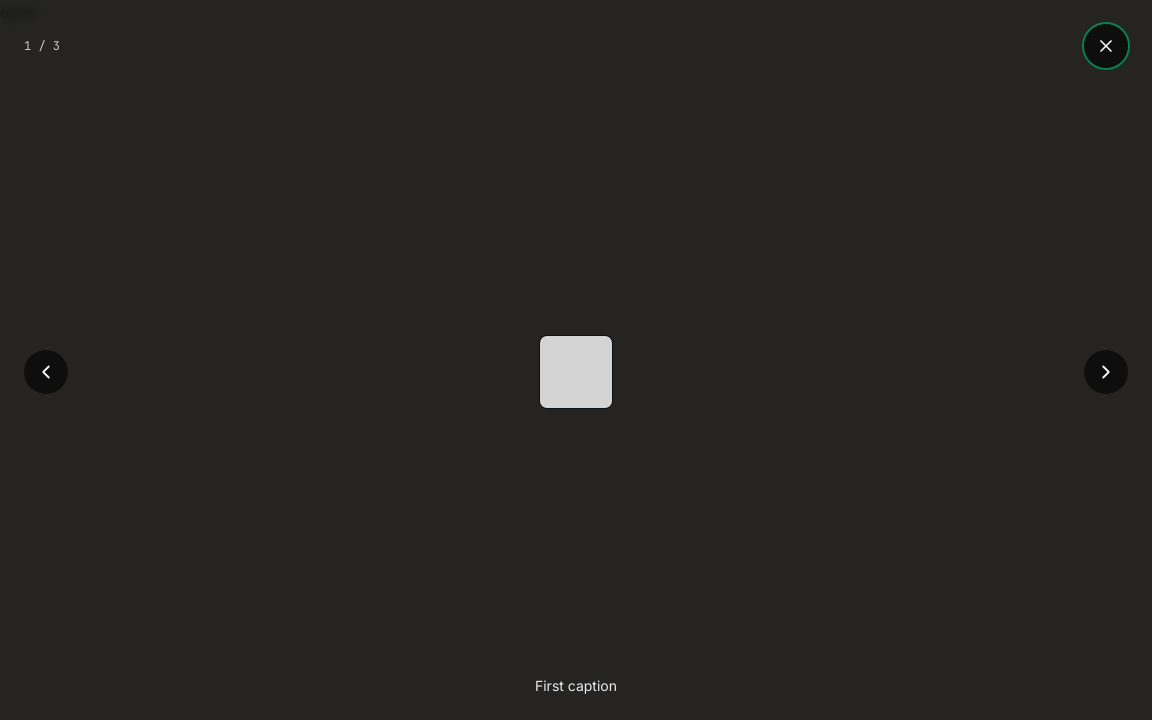
Test: ImageLightbox › moves with the buttons and arrow keys, wrapping around
The width and height of the screenshot is (1152, 720).
Click the button named "Next".
click(1106, 372)  # box [1084,350,1128,394]
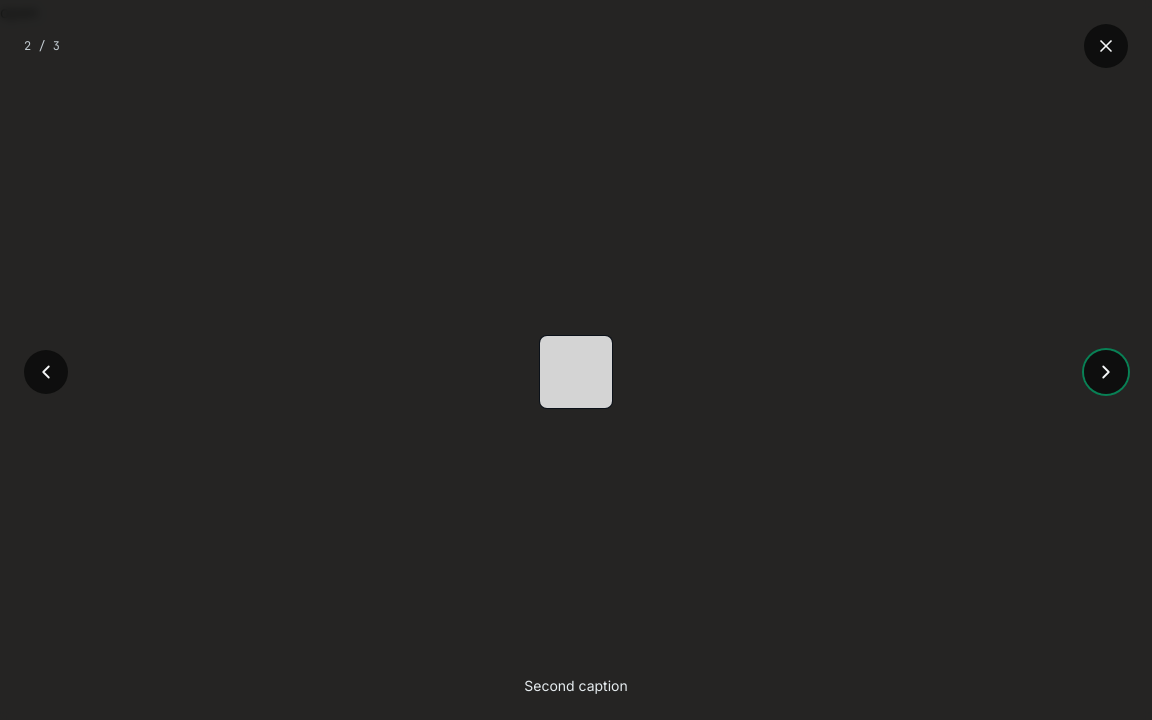
Now the text "2 / 3" is shown, box [24,38,60,54]
Press Arrowright Arrowright
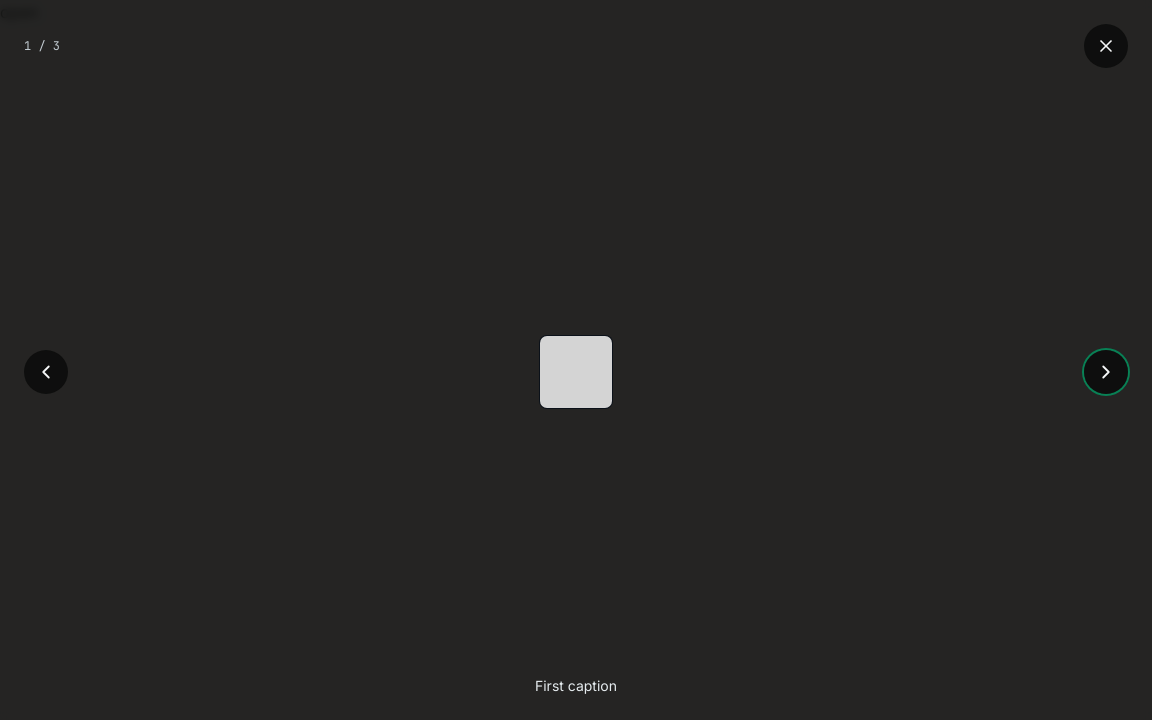
Now the text "1 / 3" is shown, box [24,38,60,54]
Press Arrowleft
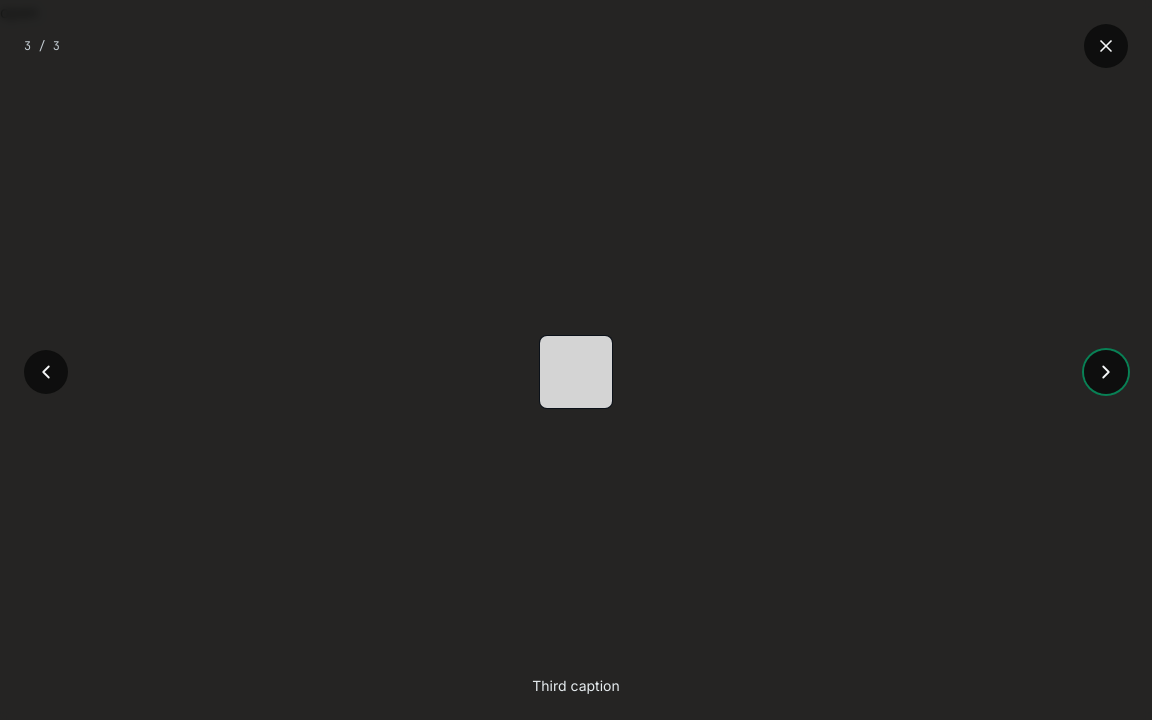
Now the text "3 / 3" is shown, box [24,38,60,54]
